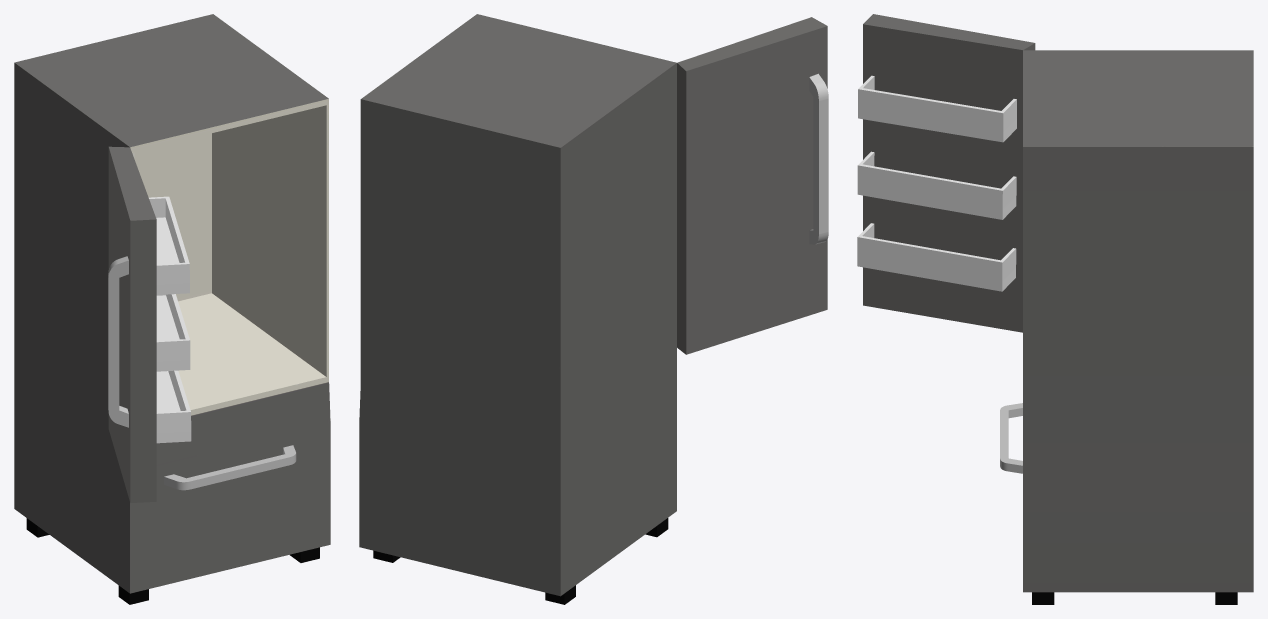
Rendered from Fridge Main 2 Closed Bottom.fbx.
3 renders of one model, left to right at view 1: azimuth 30°, elevation 25°; view 2: azimuth 150°, elevation 25°; view 3: azimuth 270°, elevation 25°, orthographic.
Visible parts, largest first — view 1: Fridge_Base_Closed; view 2: Fridge_Base_Closed; view 3: Fridge_Base_Closed.
Boxes of the visible parts, bbox=[...] form: Fridge_Base_Closed: bbox=[14, 14, 330, 604]; Fridge_Base_Closed: bbox=[359, 14, 828, 604]; Fridge_Base_Closed: bbox=[857, 14, 1253, 604].
Size of the model in its own units: 10.43 by 16.05 by 12.54.
Materials: 1 (1 with a texture image).
